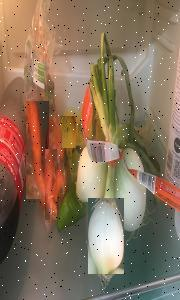Cebolla: (112, 148, 146, 231), (88, 198, 124, 274), (75, 147, 108, 204)
Limón: (62, 116, 76, 148)
Zanahoria: (26, 101, 49, 199), (45, 149, 57, 220), (56, 165, 68, 199)
